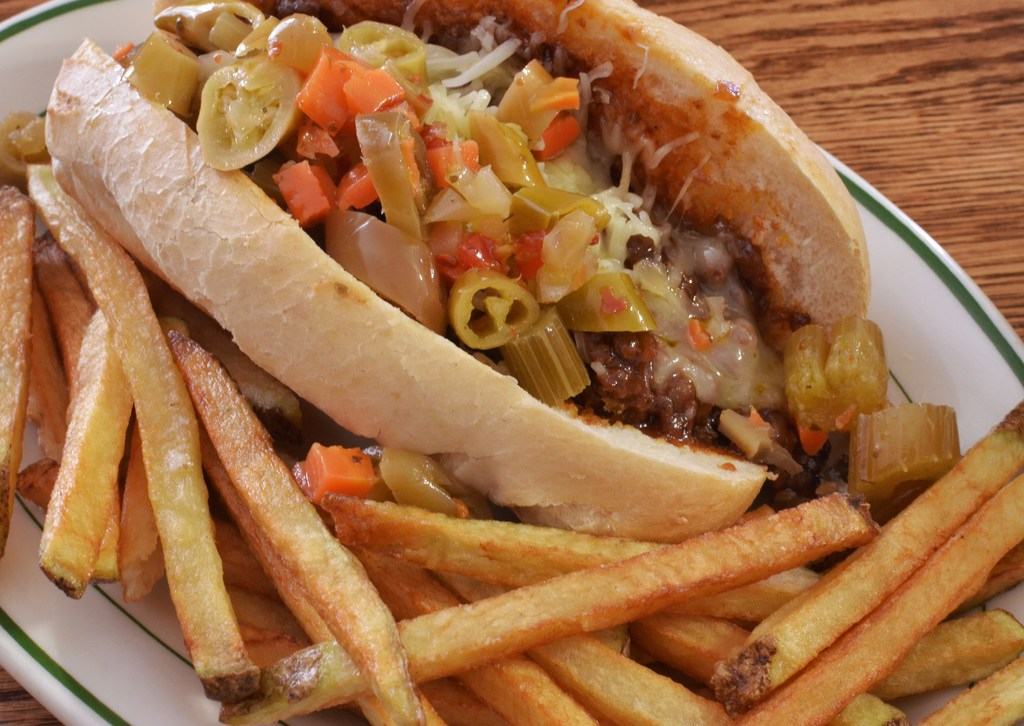French fries: (0, 16, 960, 678)
